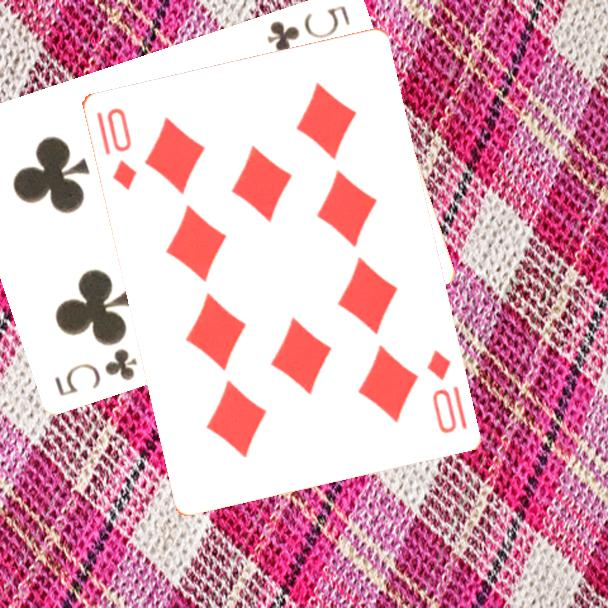c05: (263, 1, 353, 56), (51, 344, 141, 399)
d10: (422, 345, 470, 436), (102, 104, 139, 193)
